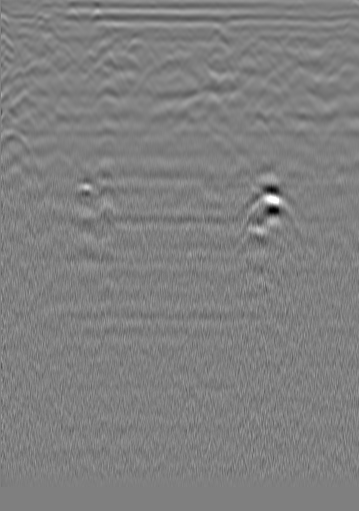가스: (67, 177, 101, 204)
상수: (313, 29, 333, 49)
오수: (15, 32, 35, 52)
우수: (164, 34, 184, 54)
